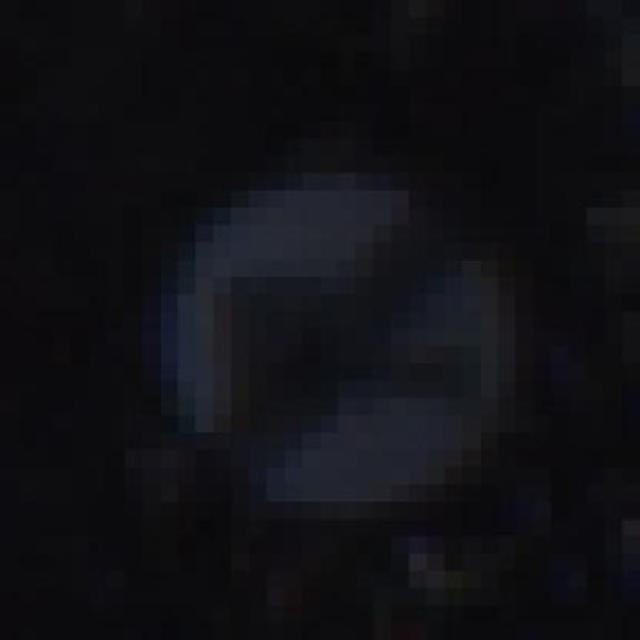Overtaking by trucks is prohibited: (89, 103, 552, 554)
